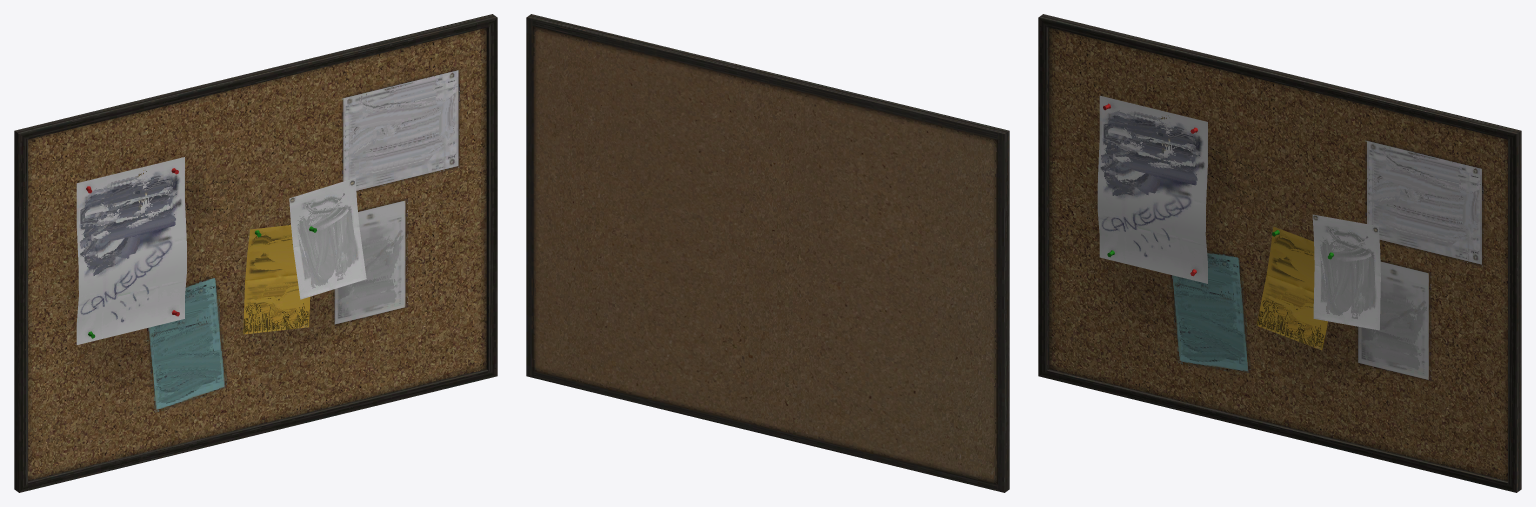
File: student_bulletin_board_wau.dae
3 renders of one model, left to right at view 1: azimuth 30°, elevation 25°; view 2: azimuth 150°, elevation 25°; view 3: azimuth 330°, elevation 25°, orthographic.
Visible parts, largest first — view 1: polySurface1; view 2: polySurface1; view 3: polySurface1.
Part boxes in pixels (left/top/right/bottom): polySurface1: left=14, top=14, right=497, bottom=492; polySurface1: left=526, top=14, right=1009, bottom=492; polySurface1: left=1038, top=14, right=1521, bottom=492.
Bounding box in the file's own units: 1.39 × 1 × 0.0395.
